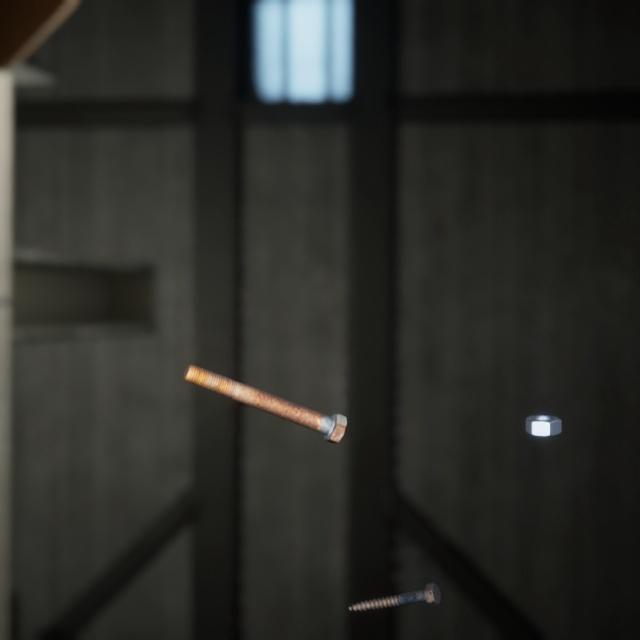bolt: (178, 339, 351, 428), (344, 555, 445, 593)
nut: (521, 390, 566, 421)
